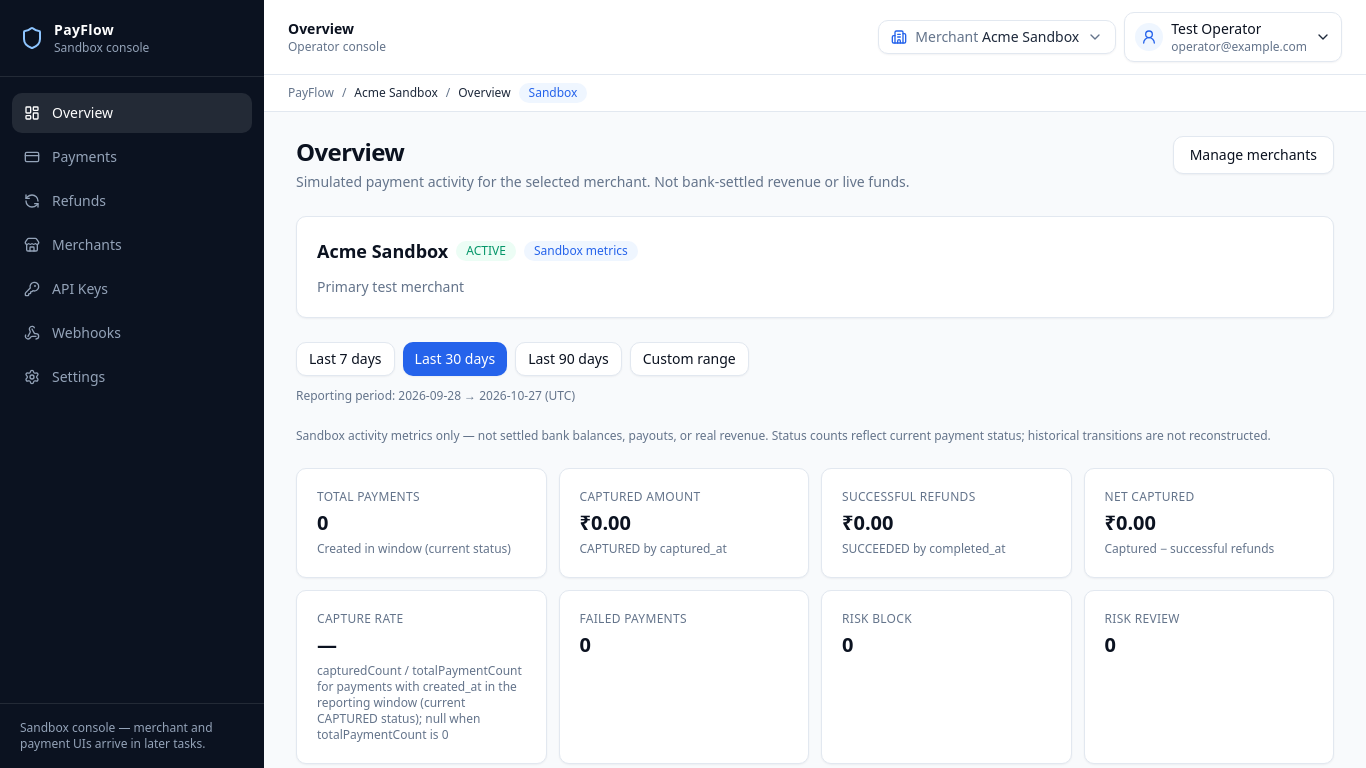
protected routes and logout › logs out and returns to login
The width and height of the screenshot is (1366, 768).
Expected: the text "Test Operator" is shown, [1171,19,1262,39]
Click the button with aria-label "account menu for test operator": (1233, 37) [1124,12,1342,62]
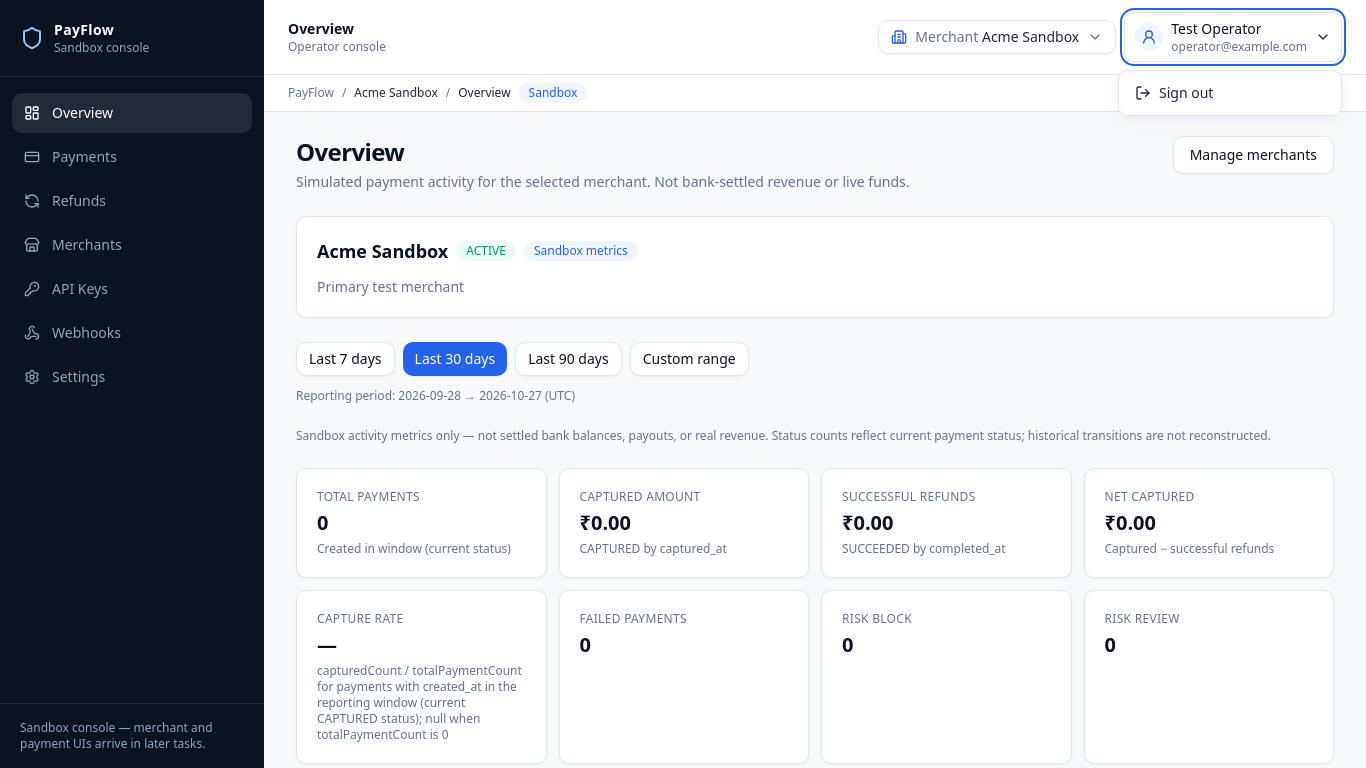
Click the menu item "Sign out": (1230, 93) [1123,75,1337,111]
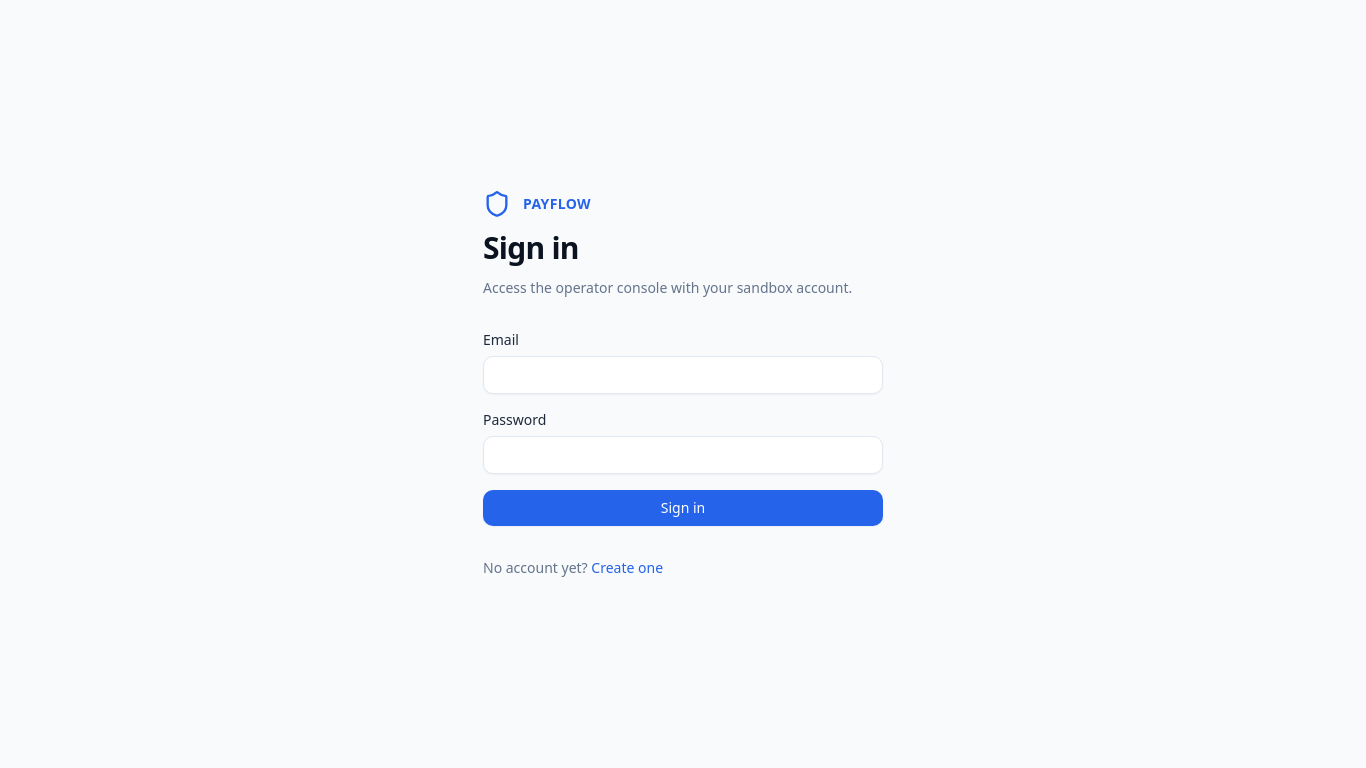
Result: the heading "Sign in" is shown at [483,227,579,268]
